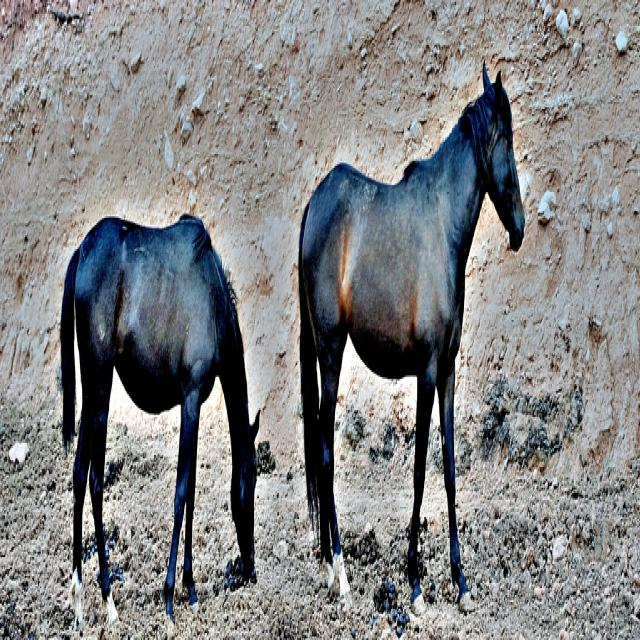Horse: (297, 56, 525, 604), (58, 214, 262, 638)
